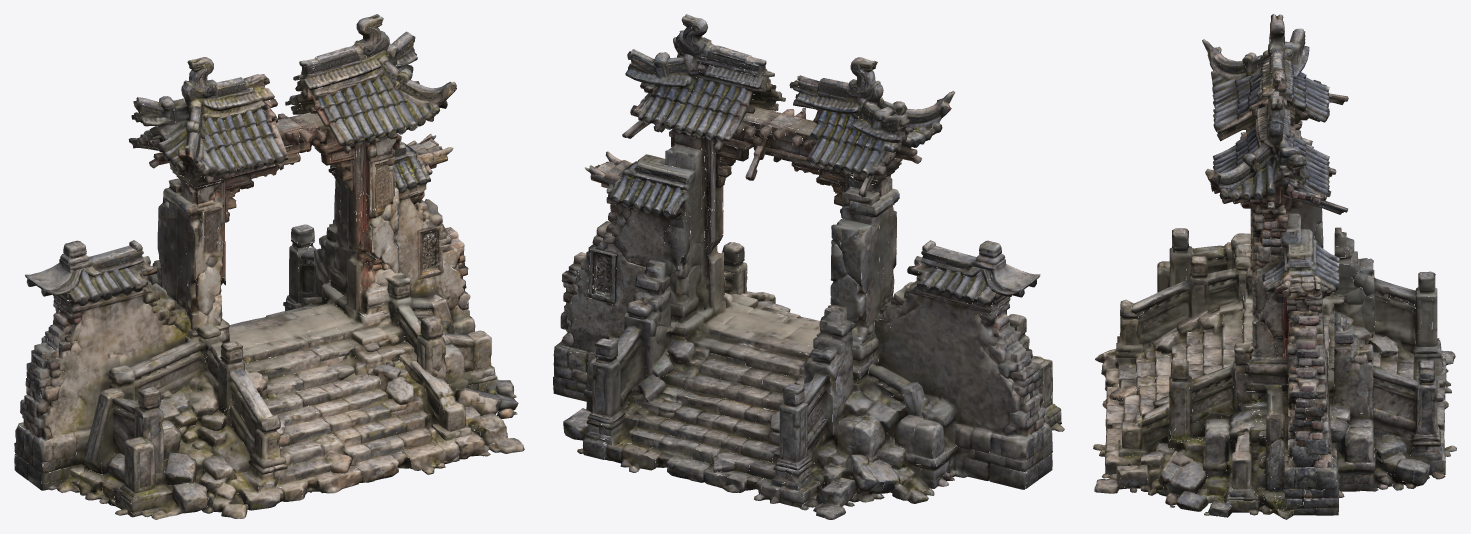
File: ruin-03.glb
3 renders of one model, left to right at view 1: azimuth 30°, elevation 25°; view 2: azimuth 150°, elevation 25°; view 3: azimuth 270°, elevation 25°, orthographic. The views are drawn at different scales.
Visible parts, largest first — view 1: tripo_node_02d33f12-a4e9-4e1a-adea-e68fa013f590; view 2: tripo_node_02d33f12-a4e9-4e1a-adea-e68fa013f590; view 3: tripo_node_02d33f12-a4e9-4e1a-adea-e68fa013f590.
Boxes of the visible parts, x1=… form: tripo_node_02d33f12-a4e9-4e1a-adea-e68fa013f590: x1=14, y1=14, x2=524, y2=519; tripo_node_02d33f12-a4e9-4e1a-adea-e68fa013f590: x1=553, y1=14, x2=1064, y2=519; tripo_node_02d33f12-a4e9-4e1a-adea-e68fa013f590: x1=1093, y1=14, x2=1456, y2=519.
Bounding box in the file's own units: 0.9824 × 0.7733 × 0.6942.
1 material, 1 textured.
